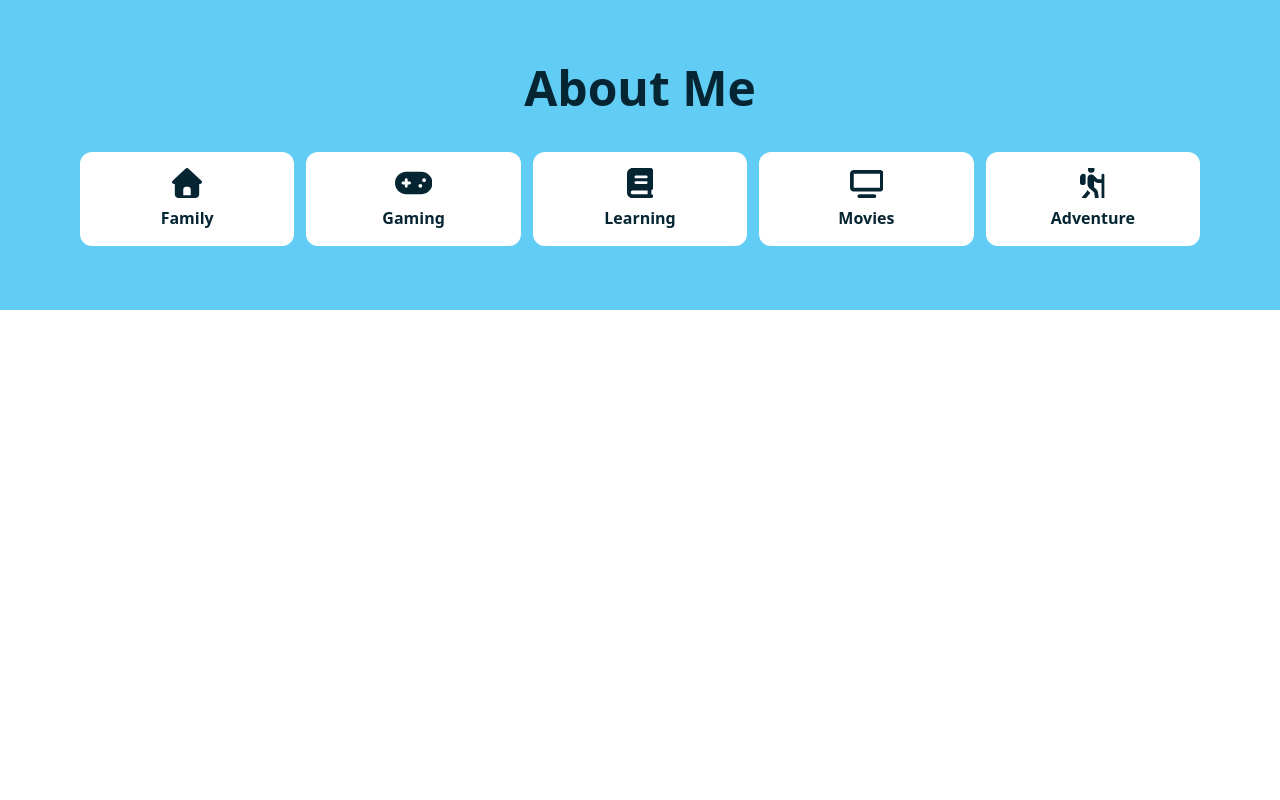
Test case: AboutMe › opens a tile into a panel with its photo and paragraph
The image size is (1280, 800).
Click the button "Family": (187, 199) top-left (80, 152), bottom-right (294, 246)
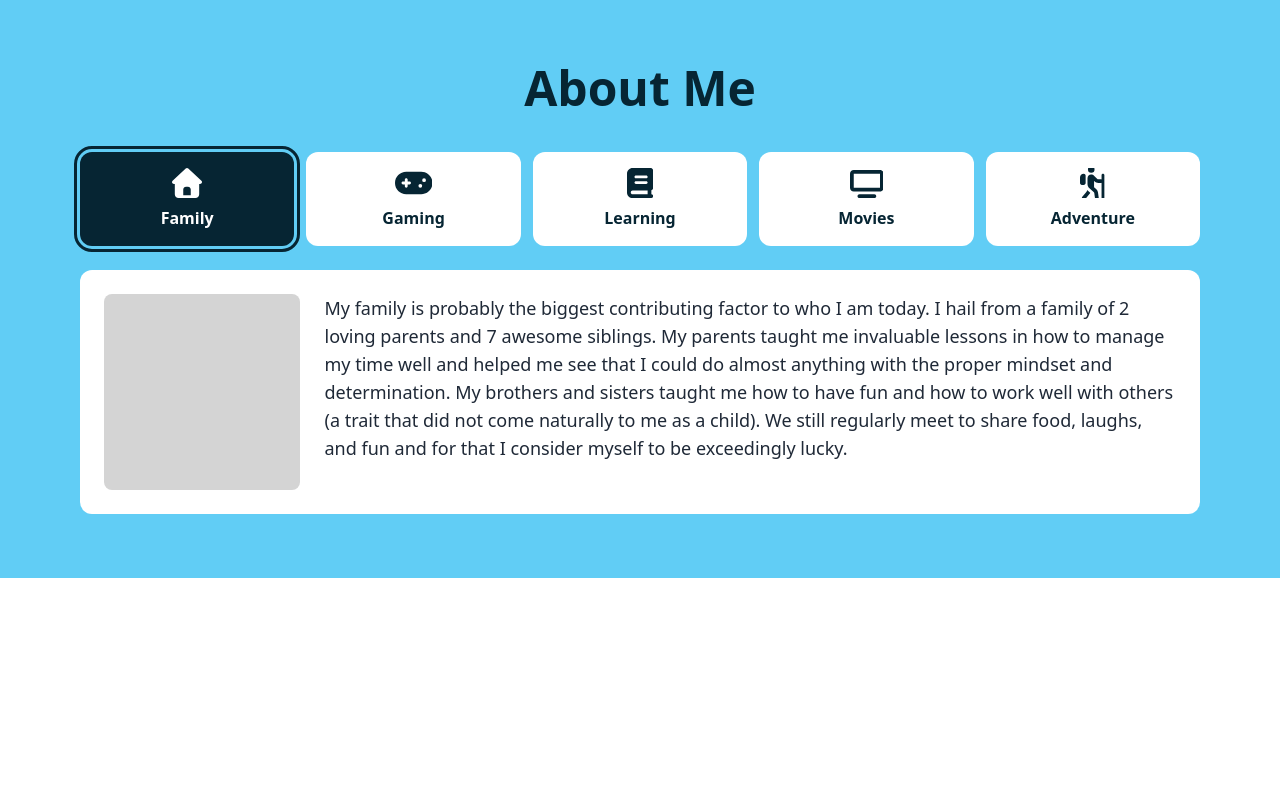
Expected: the button "Family" is expanded, top-left (80, 152), bottom-right (294, 246)
Expected: the element "family" shows "My family is probably the biggest", top-left (324, 296), bottom-right (1173, 460)
